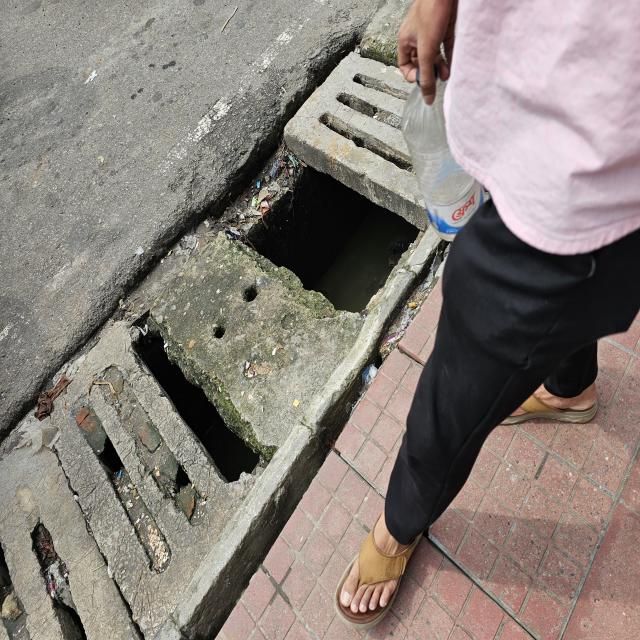drain_inlet: (238, 167, 423, 313)
